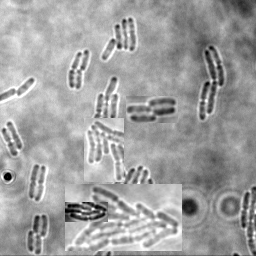Dividing: (67, 52, 81, 89), (1, 128, 18, 157), (34, 166, 47, 202), (28, 164, 39, 200), (239, 192, 249, 229)
Microcolony: (65, 184, 182, 251), (84, 118, 124, 182), (199, 45, 224, 121), (101, 18, 136, 61), (126, 96, 178, 123), (88, 76, 119, 118), (27, 214, 48, 255), (65, 202, 108, 222)
Rod: (5, 121, 23, 150), (16, 78, 34, 99), (79, 50, 89, 72), (73, 69, 82, 90)
